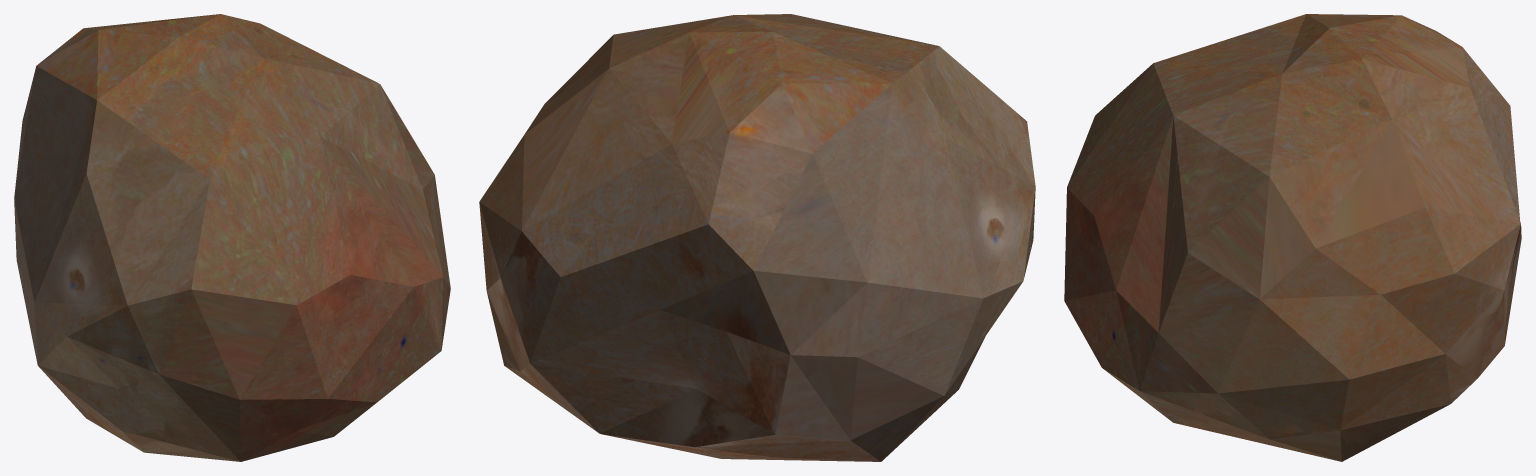
File: asteroidLow.obj
The picture shows the model from 3 angles, left to right: view 1: azimuth 30°, elevation 25°; view 2: azimuth 150°, elevation 25°; view 3: azimuth 270°, elevation 25°; orthographic projection. The views are drawn at different scales.
Parts seen in each view (by area): view 1: file1; view 2: file1; view 3: file1.
Boxes of the visible parts, box(x1,y1,x2,y2) form: file1: box(14, 14, 450, 461); file1: box(479, 14, 1035, 461); file1: box(1064, 14, 1521, 461).
Bounding box in the file's own units: 2 × 1.84 × 1.97.
1 material, 1 textured.
